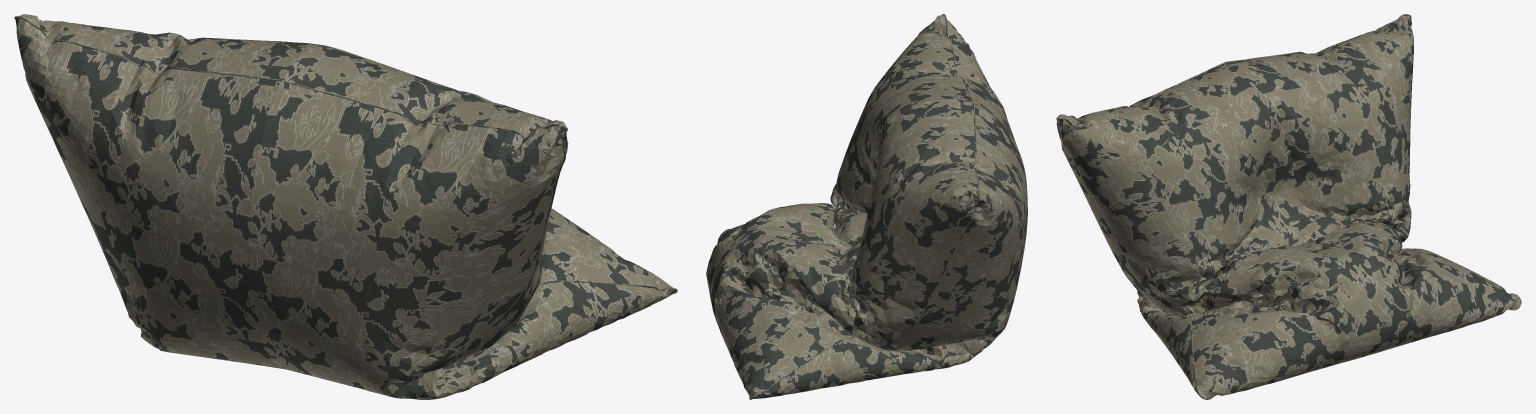
Rendered from pillow3.fbx.
3 views of the same model, side by side, from view 1: azimuth 30°, elevation 25°; view 2: azimuth 150°, elevation 25°; view 3: azimuth 270°, elevation 25° (orthographic). The views are drawn at different scales.
Visible parts, largest first — view 1: Elfo_04; view 2: Elfo_04; view 3: Elfo_04.
Part boxes in pixels (left/top/right/bottom): Elfo_04: left=14, top=14, right=677, bottom=399; Elfo_04: left=706, top=14, right=1027, bottom=399; Elfo_04: left=1056, top=14, right=1521, bottom=399.
Size of the model in its own units: 44.57 by 25.17 by 48.9.
